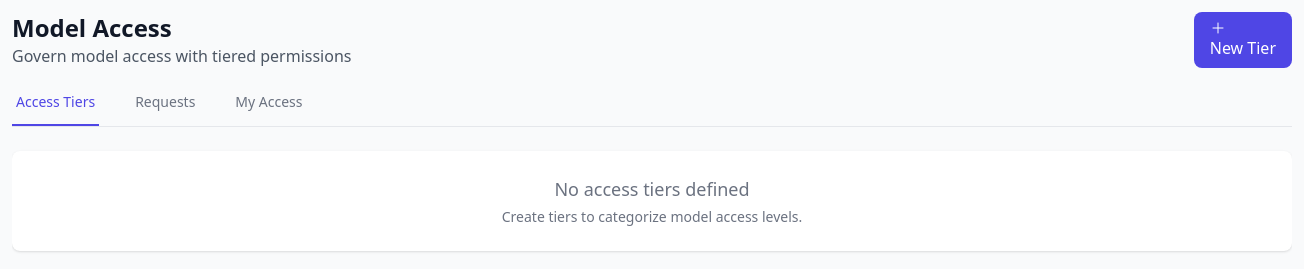
Test: ModelAccess › switches to Requests tab and shows empty state
The image size is (1304, 269).
Click the button "Requests" at (165, 109), box [131, 92, 199, 126]
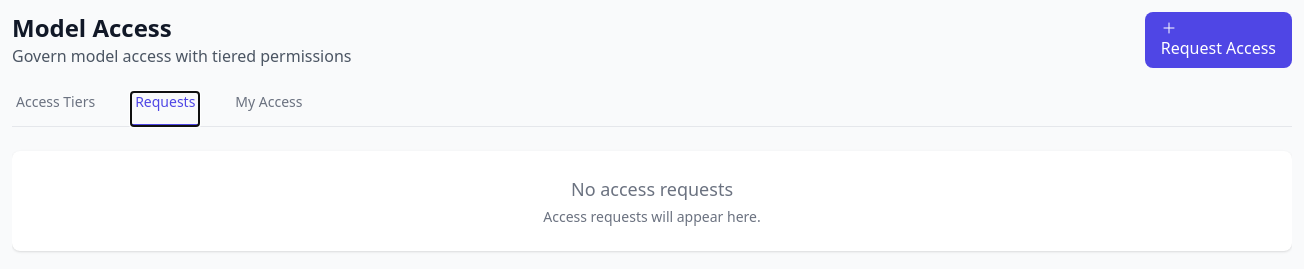
Check: the text "No access requests" is shown, box [571, 177, 733, 201]
Check: the text "Access requests will appear here." is shown, box [543, 207, 761, 226]
